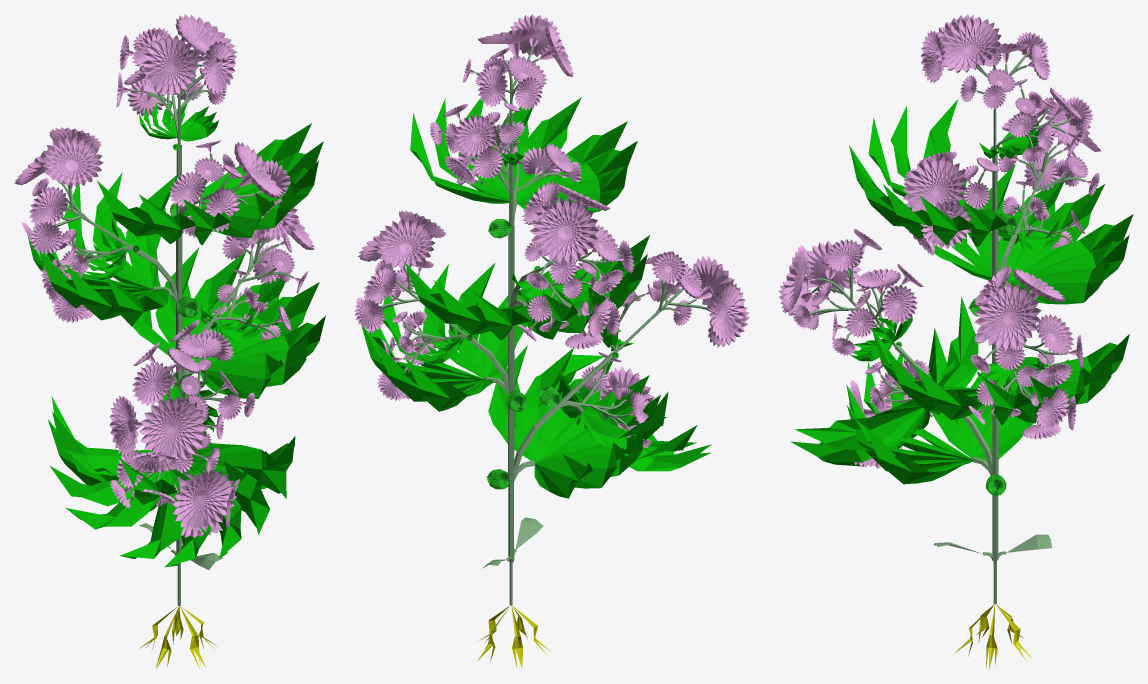
Rendered from flower.glb.
3 renders of one model, left to right at view 1: azimuth 30°, elevation 25°; view 2: azimuth 150°, elevation 25°; view 3: azimuth 270°, elevation 25°, orthographic. The views are drawn at different scales.
Visible parts, largest first — view 1: 1Newplan; view 2: 1Newplan; view 3: 1Newplan.
Boxes of the visible parts, bbox=[...] form: 1Newplan: bbox=[14, 14, 325, 668]; 1Newplan: bbox=[354, 14, 749, 668]; 1Newplan: bbox=[778, 14, 1133, 669].
Size of the model in its own units: 443 by 900 by 458.
